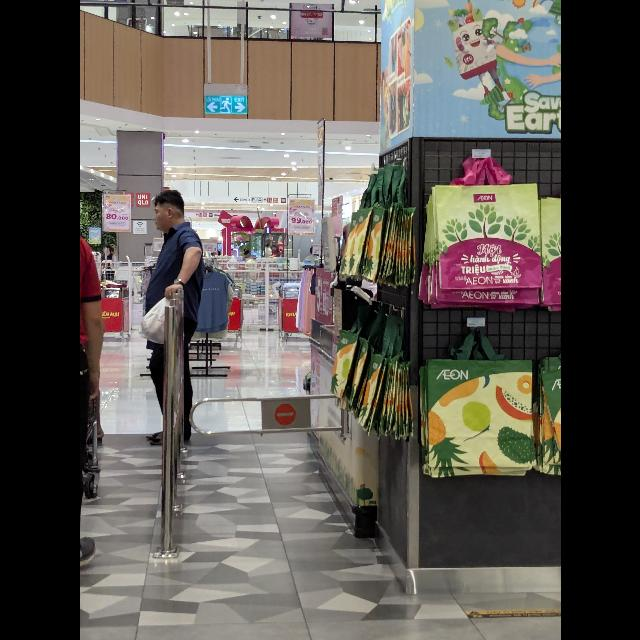exit: (205, 95, 248, 115)
